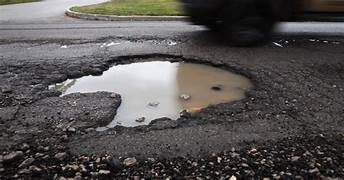Pothole: (37, 48, 264, 136)
